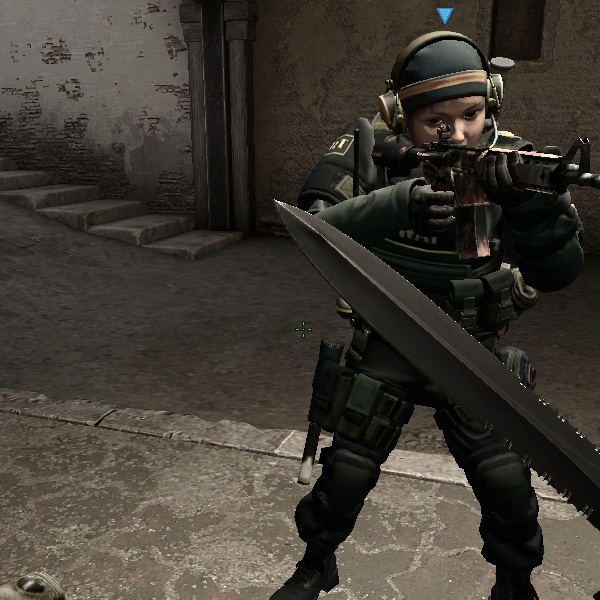ct_body: (257, 3, 586, 600)
ct_head: (373, 23, 515, 162)
